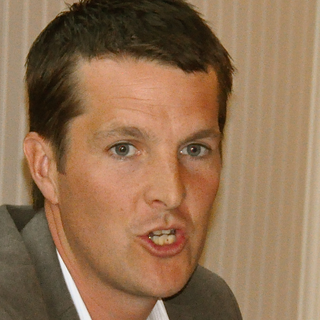eye: (99, 138, 145, 163), (175, 138, 216, 164)
